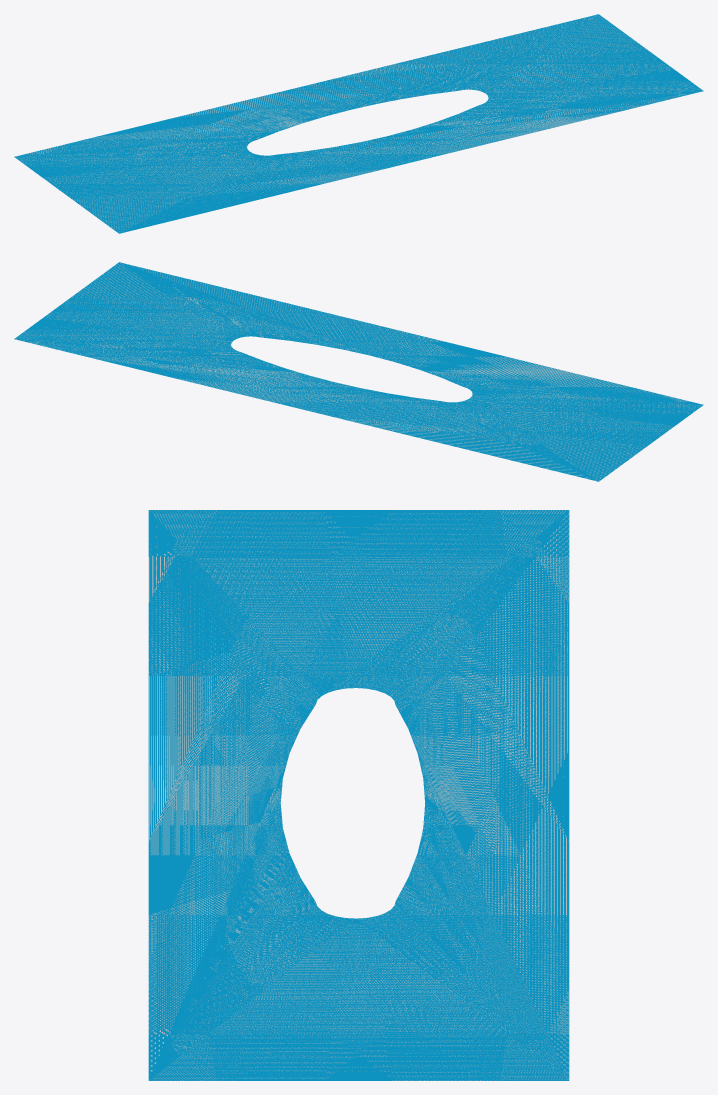
File: original-41.obj
3 renders of one model, top to bottom at view 1: azimuth 30°, elevation 25°; view 2: azimuth 150°, elevation 25°; view 3: azimuth 270°, elevation 25°, orthographic. The views are drawn at different scales.
Visible parts, largest first — view 1: mesh2/mesh2-geometry/material_4/component_0#mesh2-geometry; view 2: mesh2/mesh2-geometry/material_4/component_0#mesh2-geometry; view 3: mesh2/mesh2-geometry/material_4/component_0#mesh2-geometry.
Boxes of the visible parts, box(x1,y1,x2,y2) form: mesh2/mesh2-geometry/material_4/component_0#mesh2-geometry: box(14, 14, 703, 233); mesh2/mesh2-geometry/material_4/component_0#mesh2-geometry: box(14, 262, 703, 481); mesh2/mesh2-geometry/material_4/component_0#mesh2-geometry: box(148, 510, 569, 1080).
Size of the model in its own units: 0.2682 by 0 by 0.0835.
